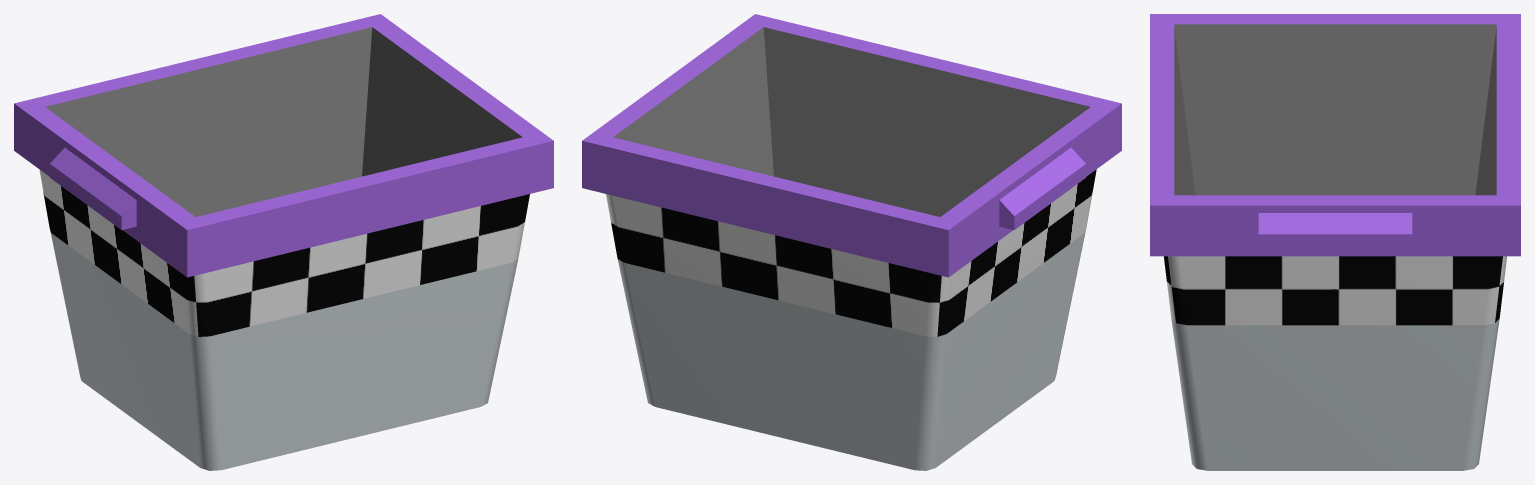
File: Basket.fbx
3 renders of one model, left to right at view 1: azimuth 30°, elevation 25°; view 2: azimuth 150°, elevation 25°; view 3: azimuth 270°, elevation 25°, orthographic. The views are drawn at different scales.
Visible parts, largest first — view 1: Basket; view 2: Basket; view 3: Basket.
Part boxes in pixels (x1,y1,x2,y2): Basket: (14, 14, 553, 470); Basket: (582, 14, 1121, 470); Basket: (1150, 14, 1520, 470).
Size of the model in its own units: 2.95 by 1.9 by 2.23.
4 materials, 1 textured.
